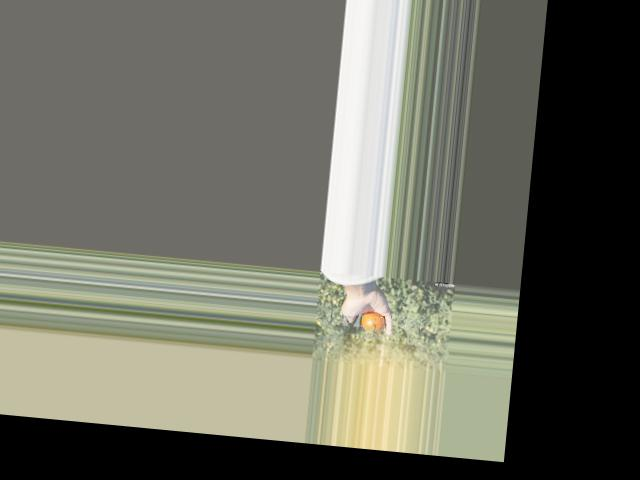tomato: (361, 311, 386, 334)
